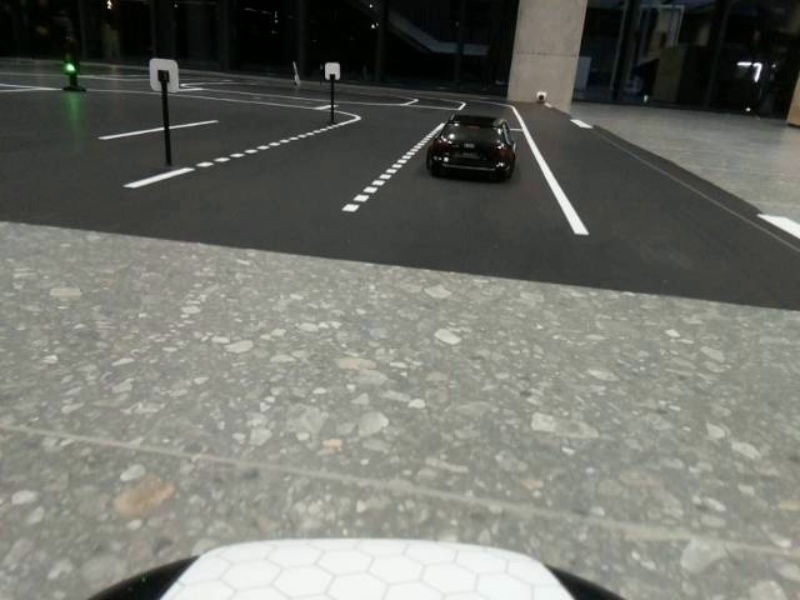car: (427, 110, 510, 186)
